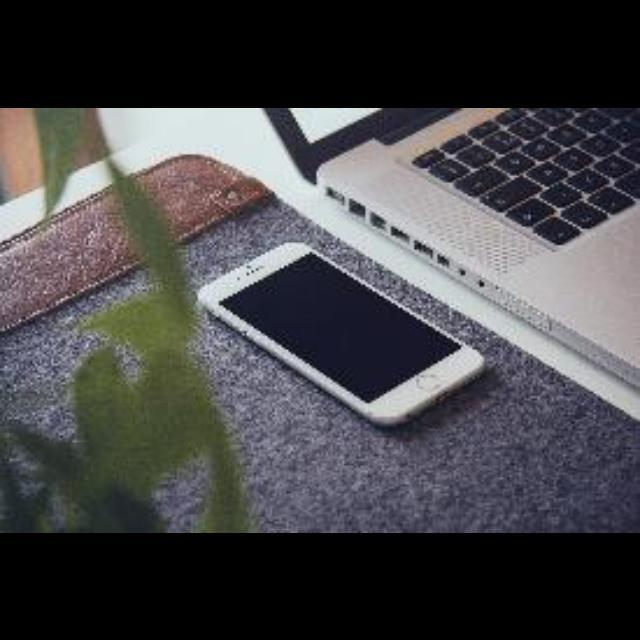PhoneUse: (198, 240, 486, 426)
